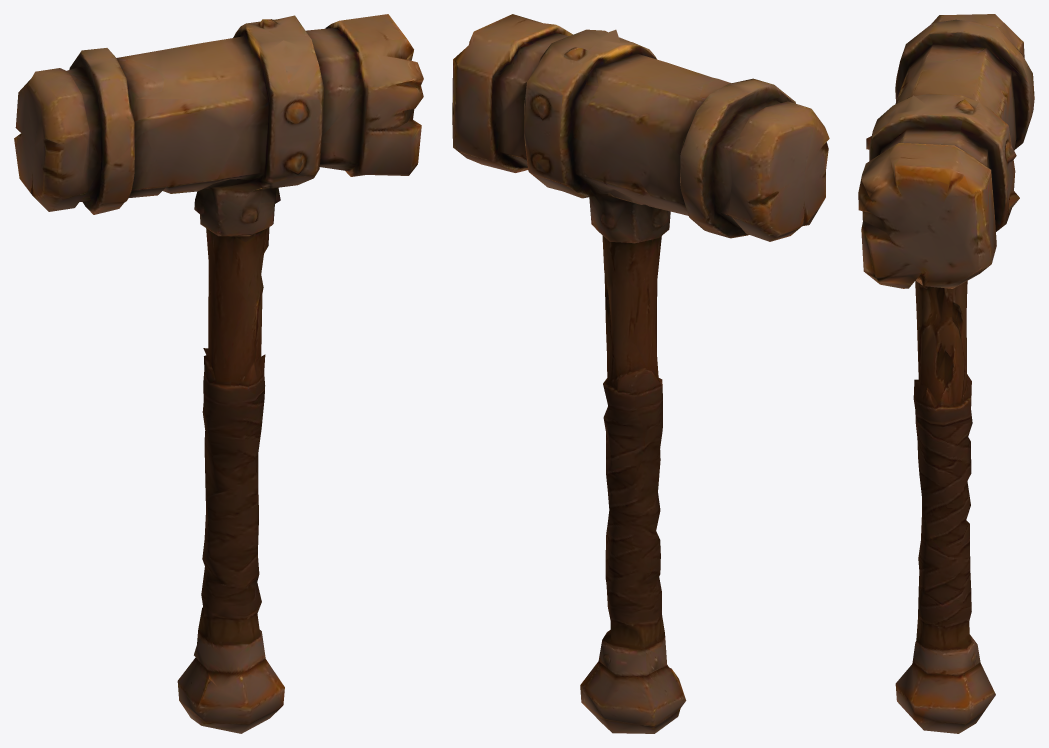
Rendered from model-prop-brute-maul-01.glb.
3 views of the same model, side by side, from view 1: azimuth 30°, elevation 25°; view 2: azimuth 150°, elevation 25°; view 3: azimuth 270°, elevation 25° (orthographic). The views are drawn at different scales.
Visible parts, largest first — view 1: tripo_node_138f4b58-dcc7-4523-976a-02ebc86bd5ef; view 2: tripo_node_138f4b58-dcc7-4523-976a-02ebc86bd5ef; view 3: tripo_node_138f4b58-dcc7-4523-976a-02ebc86bd5ef.
Part boxes in pixels (<box>): tripo_node_138f4b58-dcc7-4523-976a-02ebc86bd5ef: <box>14,14,423,733</box>; tripo_node_138f4b58-dcc7-4523-976a-02ebc86bd5ef: <box>452,14,829,733</box>; tripo_node_138f4b58-dcc7-4523-976a-02ebc86bd5ef: <box>858,14,1034,733</box>.
Bounding box in the file's own units: 0.4687 × 0.85 × 0.2111.
1 material, 1 textured.
